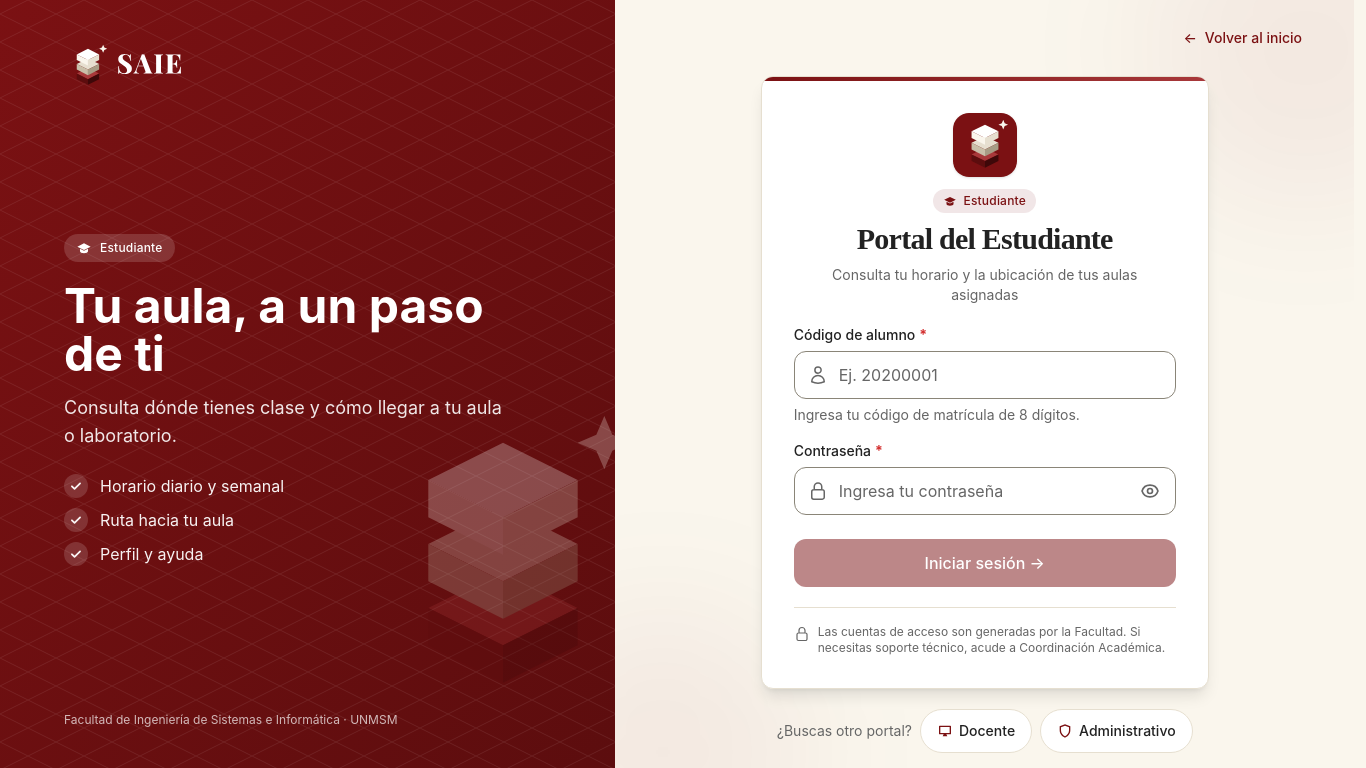
Test: LoginAlumno (Issue #151 / 3.22) › muestra mensaje claro cuando el backend responde 401 indicando gestión por Coordinación
This screenshot has width=1366, height=768.
Type "20200001" into the field labelled "Código de alumno *" at (985, 375), box [794,351,1176,399]
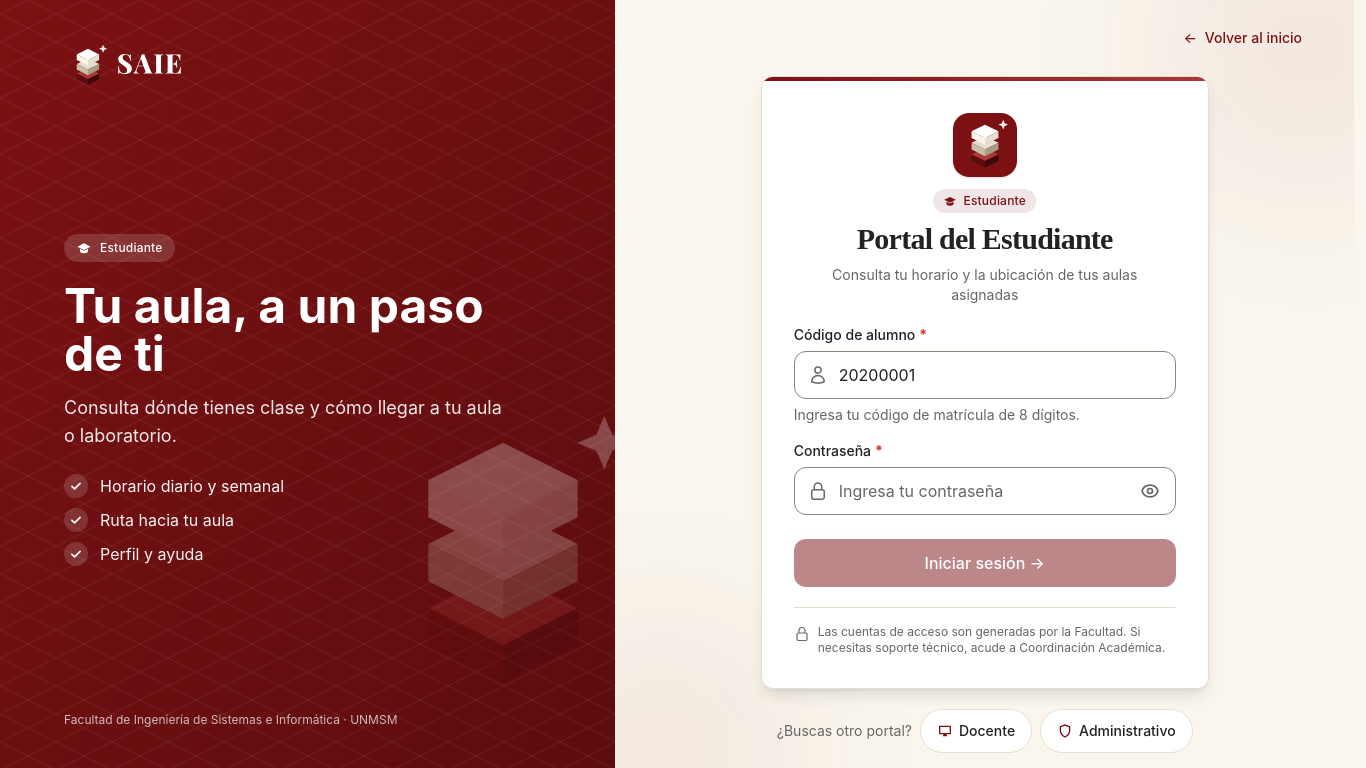
Type "claveErronea" into the password field labelled "Contraseña *" at (985, 491), box [794,467,1176,515]
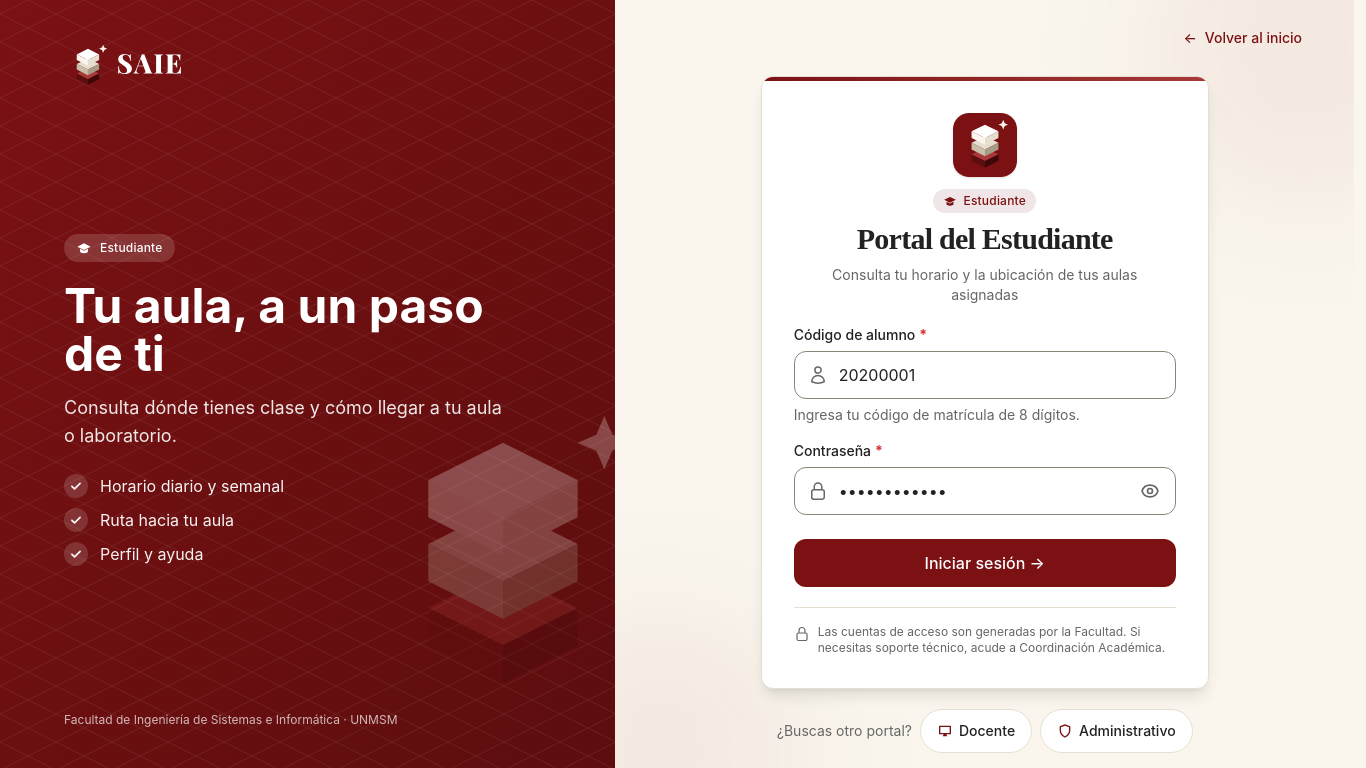
Click the button "Iniciar sesión →" at (985, 563), box [794,539,1176,587]
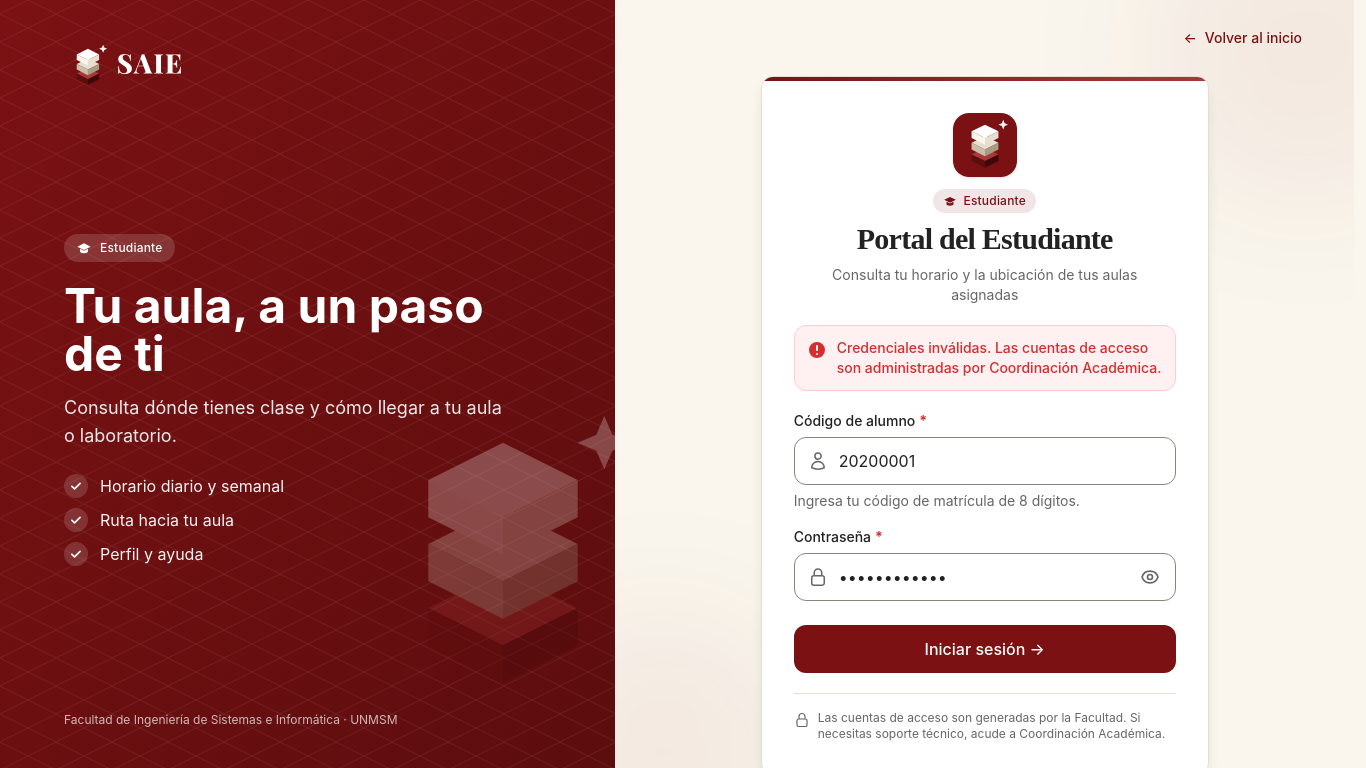
Check: the message is shown, box [794,325,1176,391]
Check: the text "Credenciales inválidas. Las cuentas de acceso son administradas por Coordinación Académica" is shown, box [837,339,1162,376]
